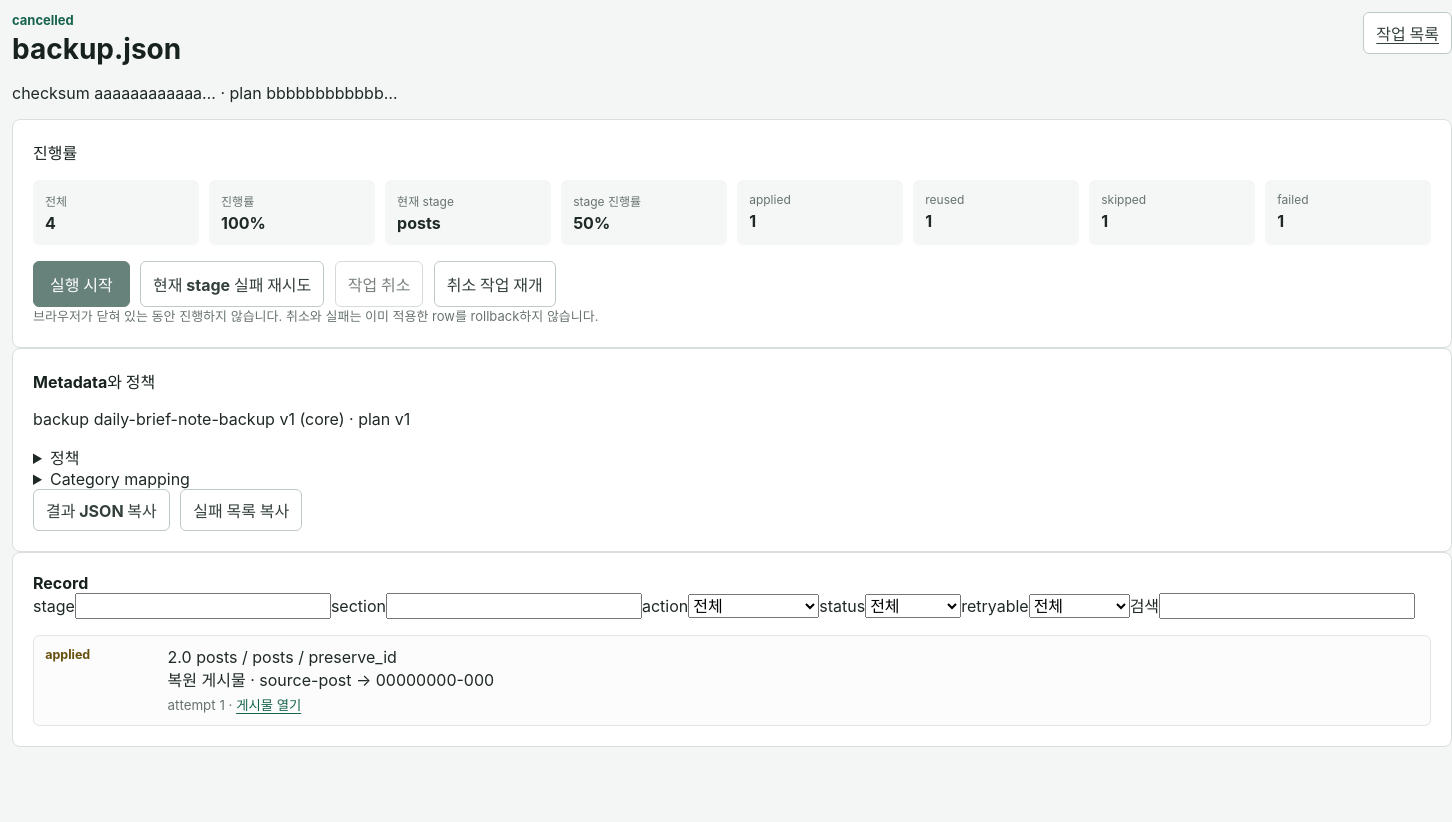
Test case: BackupRestoreJobDetailPage › stale 재개 실패를 안전하게 표시한다
Click the button "취소 작업 재개": (495, 284) [434,261,556,307]
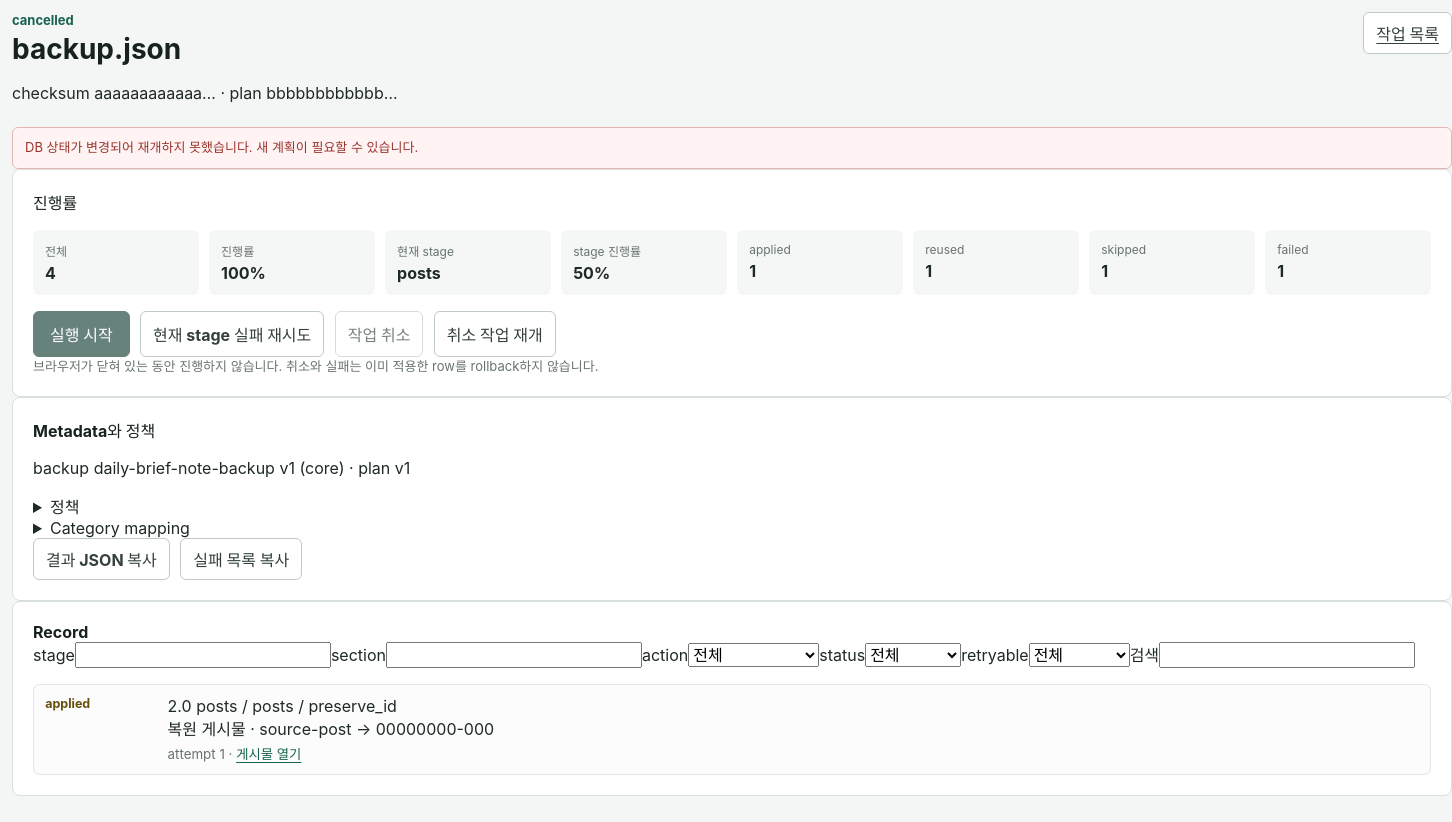
Result: the message shows "DB 상태가 변경되어" at [25,139,418,155]
